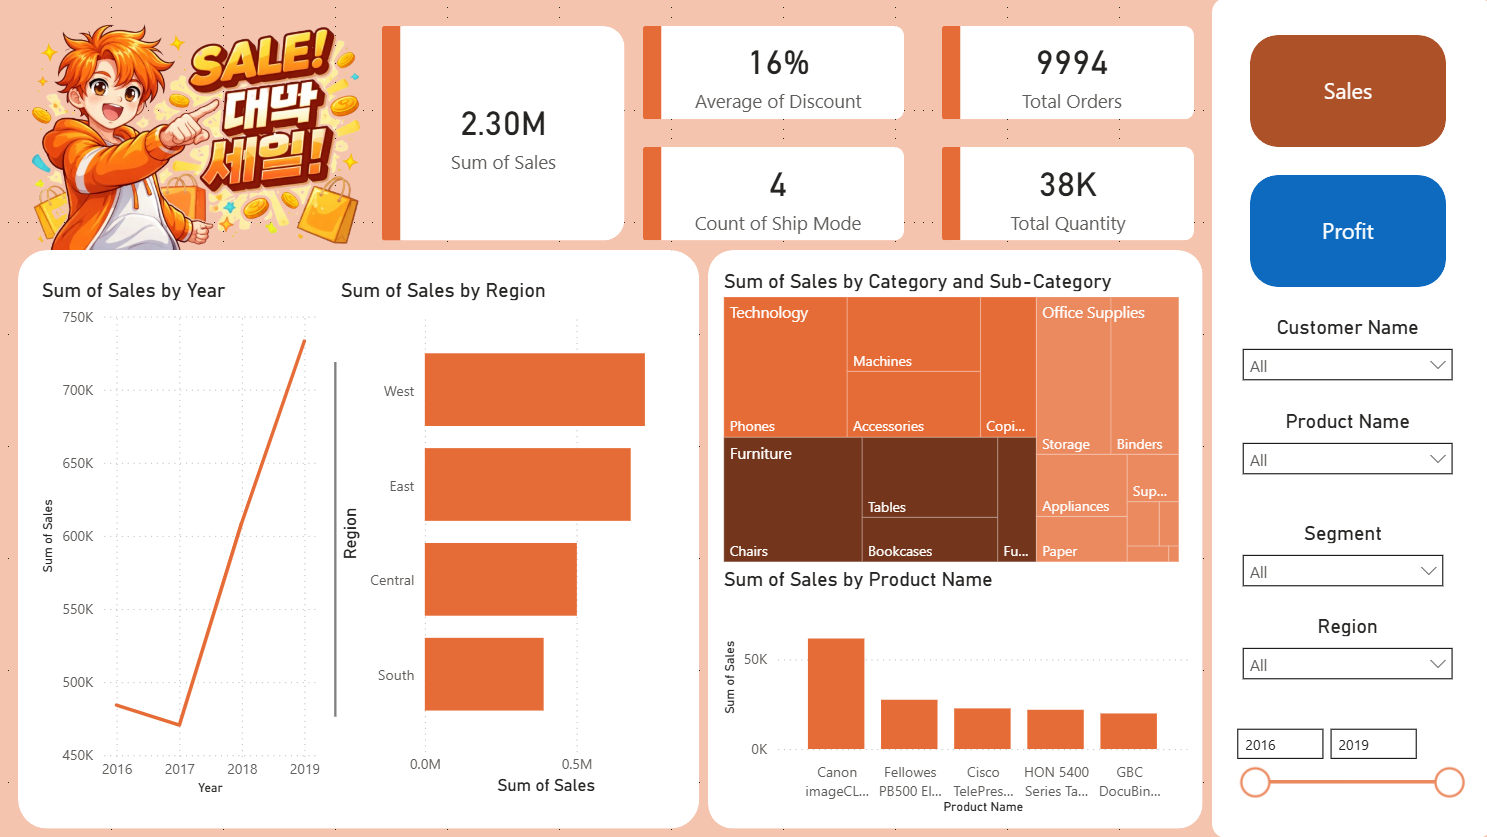

This screenshot's page, from the dashboard's own definition file:
{"tool":"powerbi","page":{"name":"Page 1","canvas":[1280,720],"ordinal":0},"visuals":[{"type":"shape","box":[16,224,592,480],"z":0},{"type":"shape","box":[1040,0,240,720],"z":3000},{"type":"shape","box":[560,24,216,80],"z":5000},{"type":"shape","box":[560,24,16,80],"z":7000},{"type":"shape","title":"Sales Button","box":[1072,32,168,96],"z":12000},{"type":"shape","title":"Profit Button","box":[1072,152,168,96],"z":14000},{"type":"shape","box":[800,24,216,80],"z":31000},{"type":"shape","box":[800,120,216,80],"z":32000},{"type":"shape","box":[320,24,216,176],"z":33000},{"type":"shape","box":[624,224,400,480],"z":34000},{"type":"shape","box":[160,320,304,304],"z":35000},{"type":"shape","box":[320,24,16,176],"z":36000},{"type":"shape","box":[800,24,16,80],"z":37000},{"type":"shape","box":[800,120,16,80],"z":38000},{"type":"shape","box":[560,120,216,80],"z":39000},{"type":"shape","box":[560,120,16,80],"z":40000},{"type":"card","fields":{"Values":["Sum(Orders.Profit)"]},"box":[352,56,152,112],"z":41000},{"type":"card","fields":{"Values":["Orders.Profit Margin %"]},"box":[600,24,128,80],"z":42000},{"type":"card","fields":{"Values":["Sum(Orders.Sales)"]},"box":[600,120,128,80],"z":43000},{"type":"card","fields":{"Values":["Orders.Loss Orders"]},"box":[848,120,128,80],"z":44000},{"type":"donutChart","fields":{"Category":["Orders.Region"],"Y":["Sum(Orders.Profit)"]},"box":[24,256,288,424],"z":45000},{"type":"columnChart","fields":{"Category":["Orders.Sub-Category"],"Y":["Sum(Orders.Profit)"]},"box":[312,256,288,424],"z":46000},{"type":"card","fields":{"Values":["Orders.Profit per Unit"]},"box":[848,24,128,80],"z":47000},{"type":"scatterChart","fields":{"X":["Sum(Orders.Sales)"],"Y":["Sum(Orders.Profit)"],"Series":["Orders.Category"],"Size":["Sum(Orders.Quantity)"],"Category":["Orders.Sub-Category"]},"box":[624,240,400,456],"z":48000},{"type":"slicer","fields":{"Values":["Orders.Order Date.Variation.Date Hierarchy.Year"]},"box":[1048,608,216,80],"z":49000},{"type":"slicer","title":"Product Name","fields":{"Values":["Orders.Product Name"]},"box":[1056,304,200,64],"z":50000},{"type":"slicer","title":"Region","fields":{"Values":["Orders.Region"]},"box":[1056,368,200,64],"z":51000},{"type":"slicer","title":"Segment","fields":{"Values":["Orders.Segment"]},"box":[1056,448,192,80],"z":52000},{"type":"slicer","title":"Region","fields":{"Values":["Orders.Region"]},"box":[1056,528,200,64],"z":53000},{"type":"image","box":[16,16,320,208],"z":54000}]}

Visuals, with their boxes in screenshot pixels (x1, y1, x2, y2), scaled from the page's 1280x720 canvas onto the 1487x837 screenshot:
shape: box(19, 260, 706, 818)
shape: box(1208, 0, 1486, 836)
shape: box(651, 28, 901, 121)
shape: box(651, 28, 669, 121)
"Sales Button" shape: box(1245, 37, 1441, 149)
"Profit Button" shape: box(1245, 177, 1441, 288)
shape: box(929, 28, 1180, 121)
shape: box(929, 140, 1180, 233)
shape: box(372, 28, 623, 233)
shape: box(725, 260, 1190, 818)
shape: box(186, 372, 539, 725)
shape: box(372, 28, 390, 233)
shape: box(929, 28, 948, 121)
shape: box(929, 140, 948, 233)
shape: box(651, 140, 901, 233)
shape: box(651, 140, 669, 233)
card - Sum(Orders.Profit): box(409, 65, 586, 195)
card - Orders.Profit Margin %: box(697, 28, 846, 121)
card - Sum(Orders.Sales): box(697, 140, 846, 233)
card - Orders.Loss Orders: box(985, 140, 1134, 233)
donutChart - Orders.Region x Sum(Orders.Profit): box(28, 298, 362, 791)
columnChart - Orders.Sub-Category x Sum(Orders.Profit): box(362, 298, 697, 791)
card - Orders.Profit per Unit: box(985, 28, 1134, 121)
scatterChart - Sum(Orders.Sales) x Sum(Orders.Profit): box(725, 279, 1190, 809)
slicer - Orders.Order Date.Variation.Date Hierarchy.Year: box(1217, 707, 1468, 800)
"Product Name" slicer: box(1227, 353, 1459, 428)
"Region" slicer: box(1227, 428, 1459, 502)
"Segment" slicer: box(1227, 521, 1450, 614)
"Region" slicer: box(1227, 614, 1459, 688)
image: box(19, 19, 390, 260)
